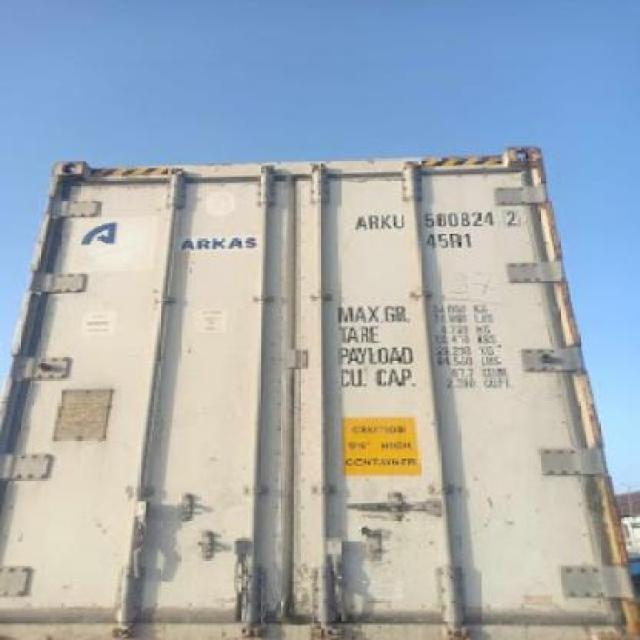ISO: (428, 230, 473, 250)
container_number: (358, 210, 525, 228)
